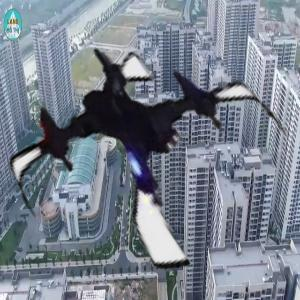drone: (11, 20, 287, 296)
